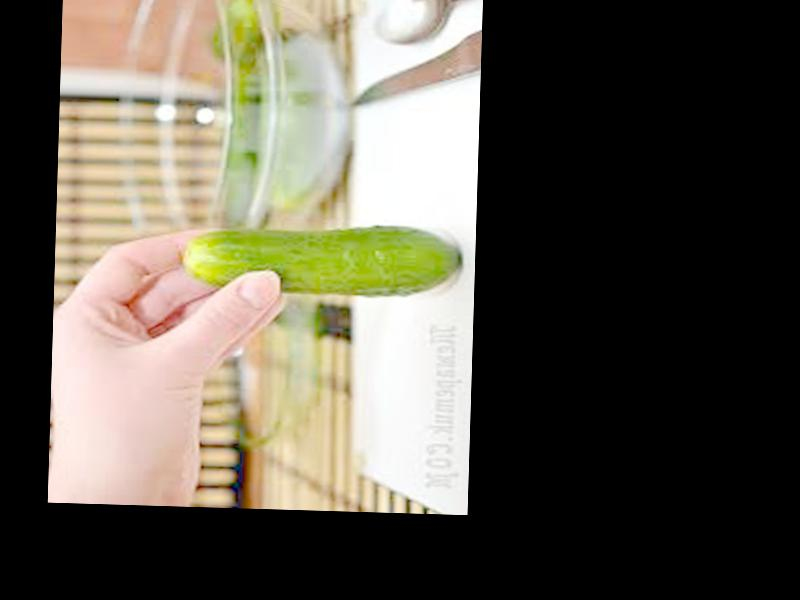Cucumber: (182, 220, 459, 298)
